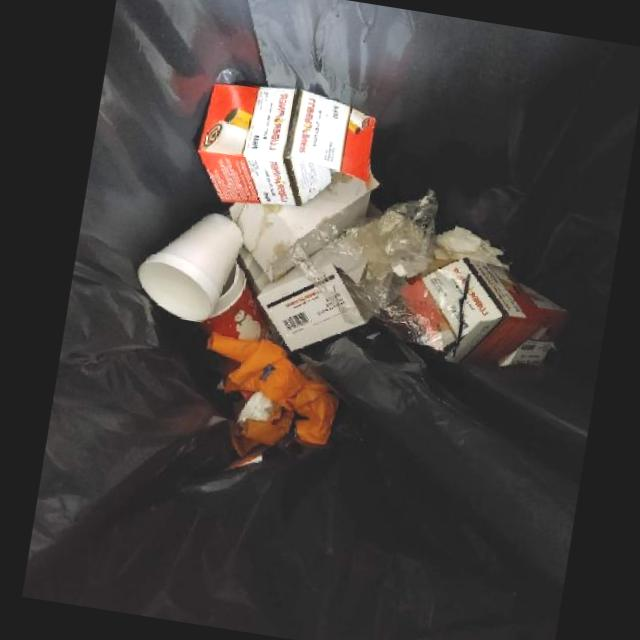carton: (196, 84, 380, 206), (399, 259, 541, 366), (257, 264, 365, 352), (499, 283, 566, 367)
tui_ni_long: (287, 190, 482, 326)
xop: (137, 214, 244, 322)
